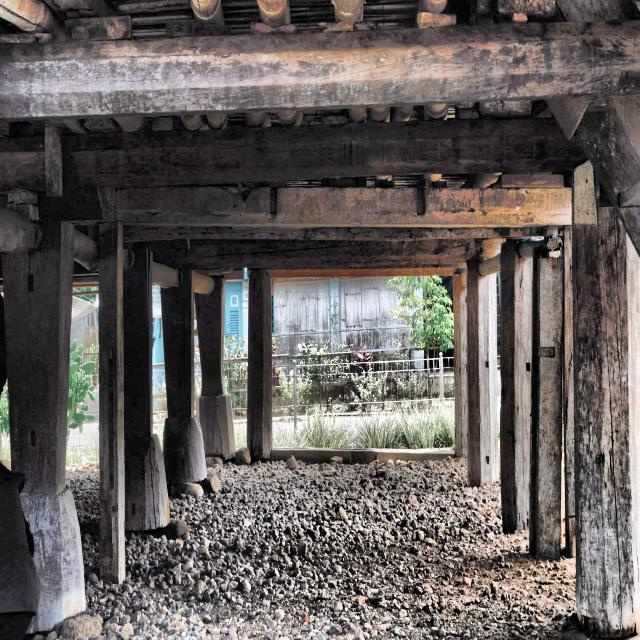column: (2, 220, 86, 633), (573, 224, 640, 638), (100, 250, 170, 584), (529, 238, 563, 559), (160, 270, 207, 484), (500, 241, 532, 531), (466, 261, 499, 487), (195, 279, 236, 459), (246, 277, 272, 456), (453, 275, 468, 456)
